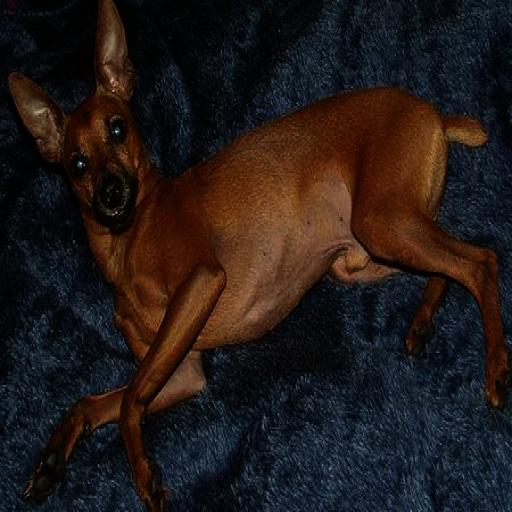dog_face: (15, 4, 143, 232)
